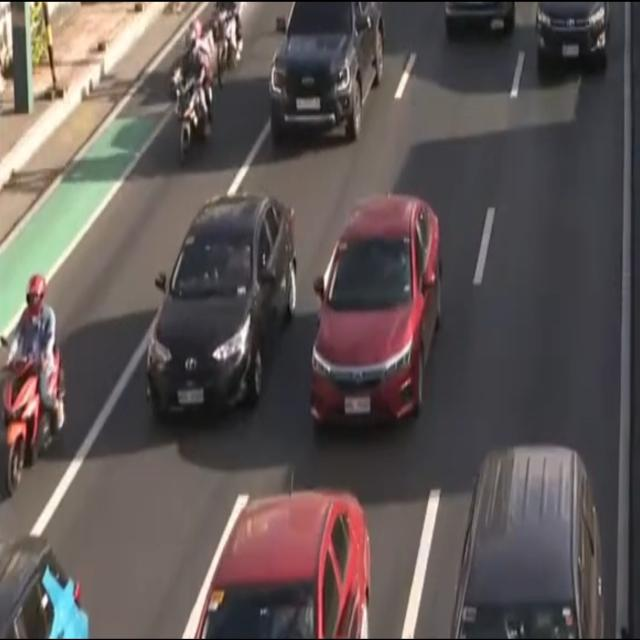Motorcycle: (0, 274, 65, 496), (170, 18, 212, 157), (209, 0, 243, 86)
SUV: (449, 458, 608, 640), (270, 0, 388, 147)
Sedan: (148, 196, 298, 427), (308, 196, 448, 430), (189, 490, 373, 640)
